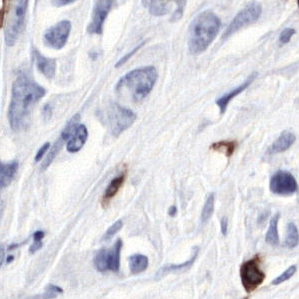Lymphocyte: (239, 257, 267, 294)
